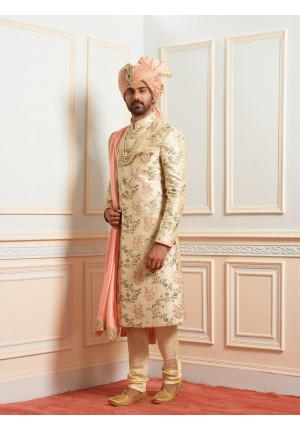Desgin sherwani: (94, 108, 191, 338)
